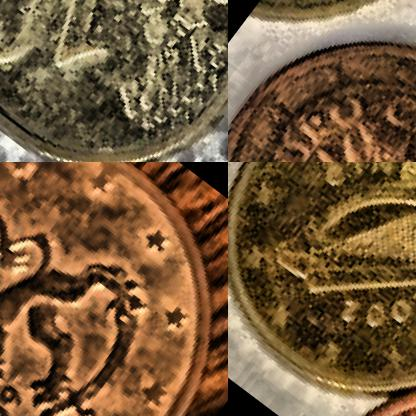coin: (0, 162, 227, 415), (228, 162, 415, 415), (0, 0, 227, 161), (228, 0, 415, 161)
